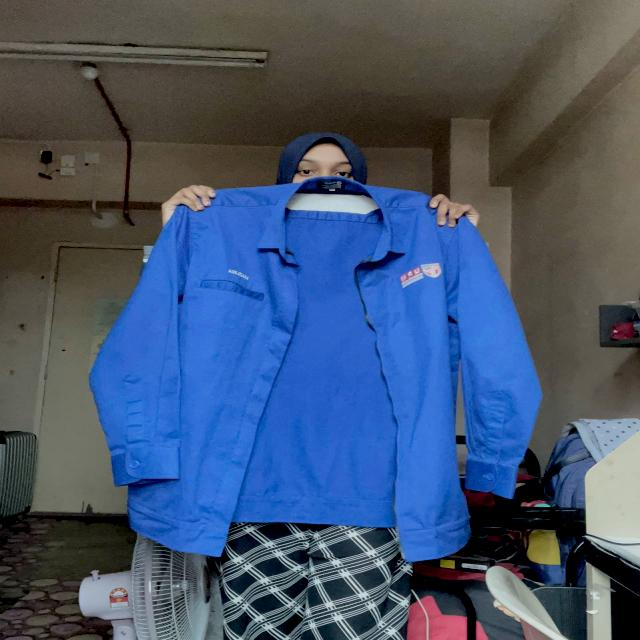person_without_labcoat: (90, 132, 541, 640)
